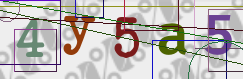4: (12, 16, 49, 61)
5: (110, 12, 142, 61), (204, 12, 233, 56)
a: (154, 18, 191, 60)
y: (59, 12, 97, 57)
